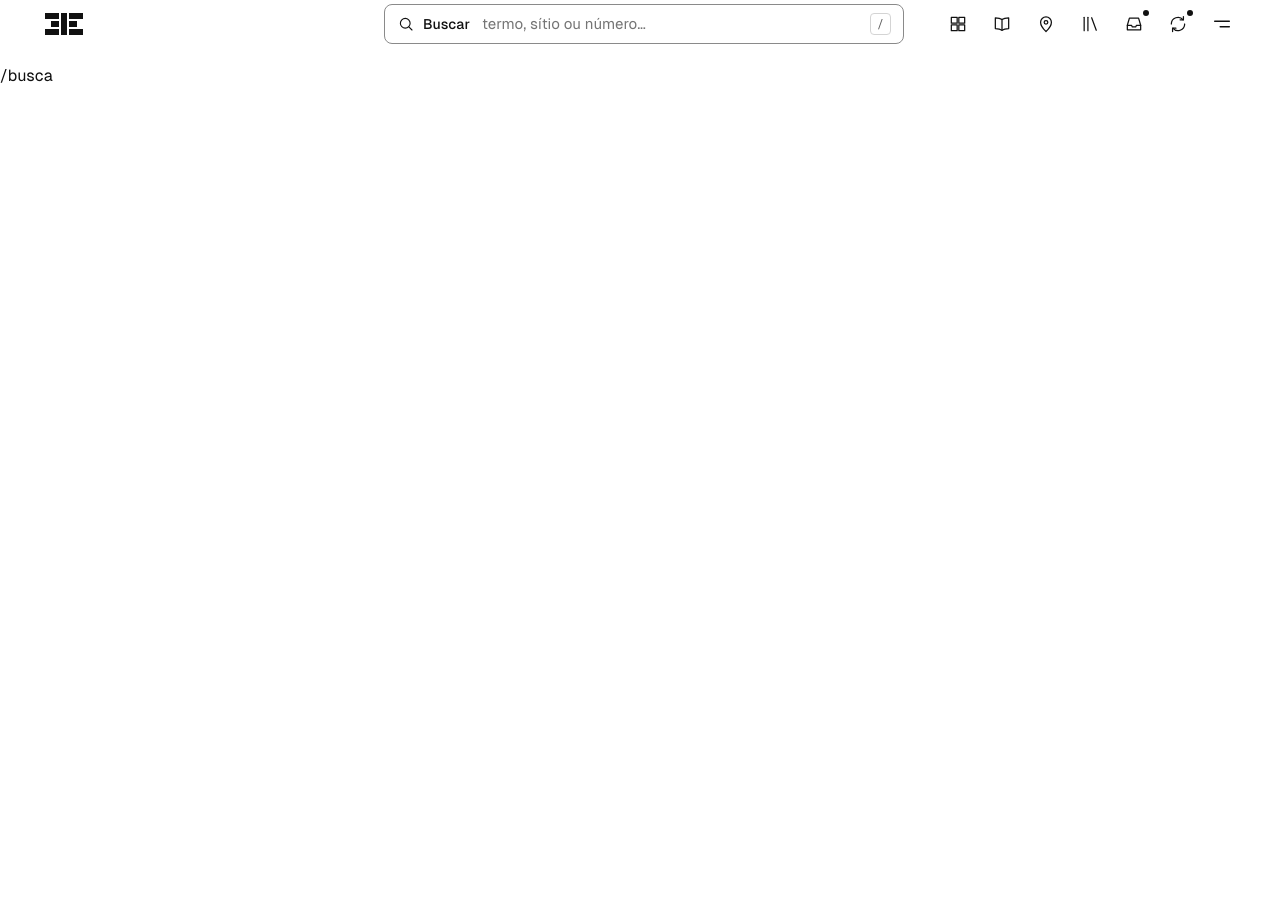
Scenario: BarraSuperior › o Menu abre o painel (aria-expanded), Esc fecha e o foco volta ao botão
Click the button named "Menu" at (1222, 24), box [1200,2,1244,46]
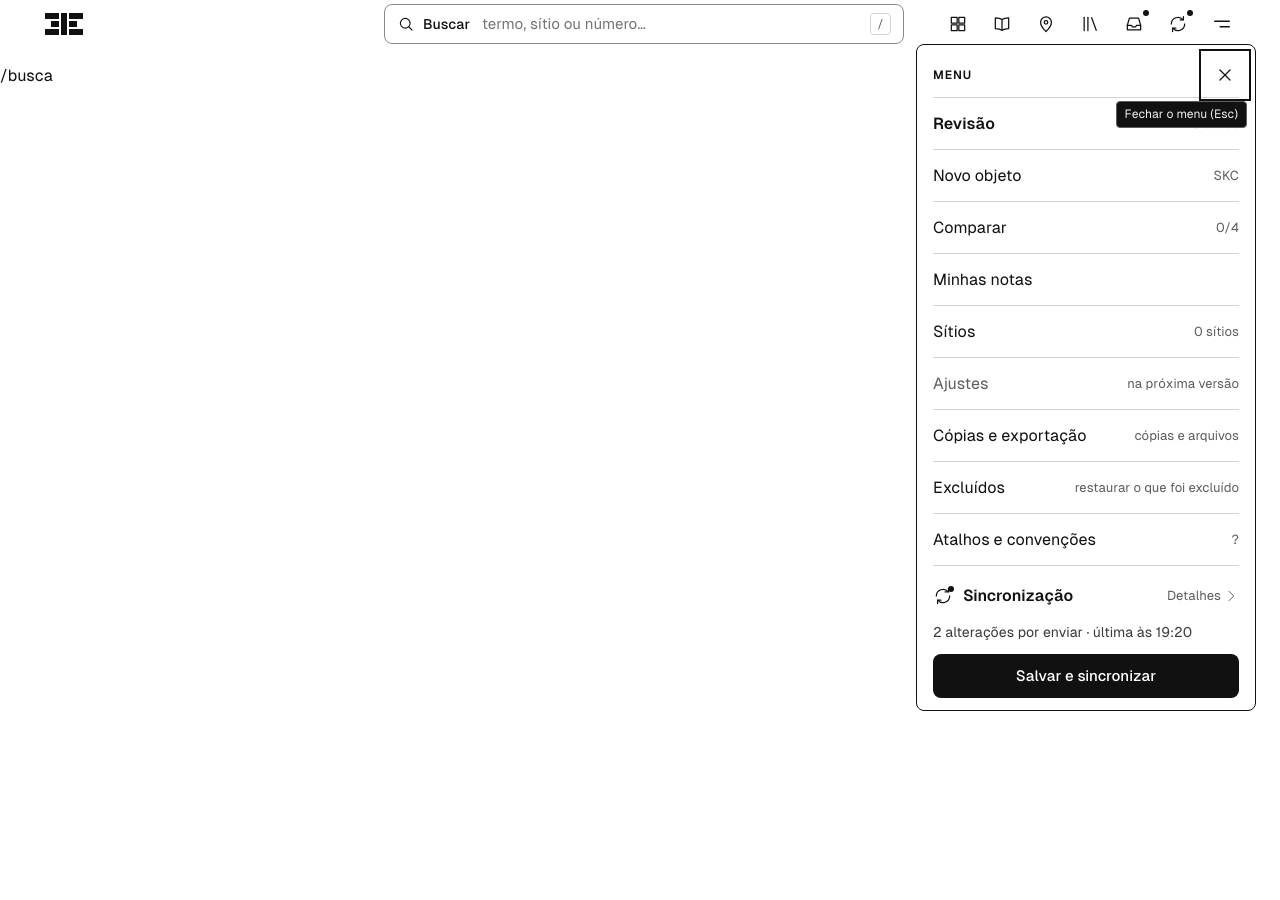
Now the dialog "Menu" is shown, box [916,44,1256,711]
Press Escape
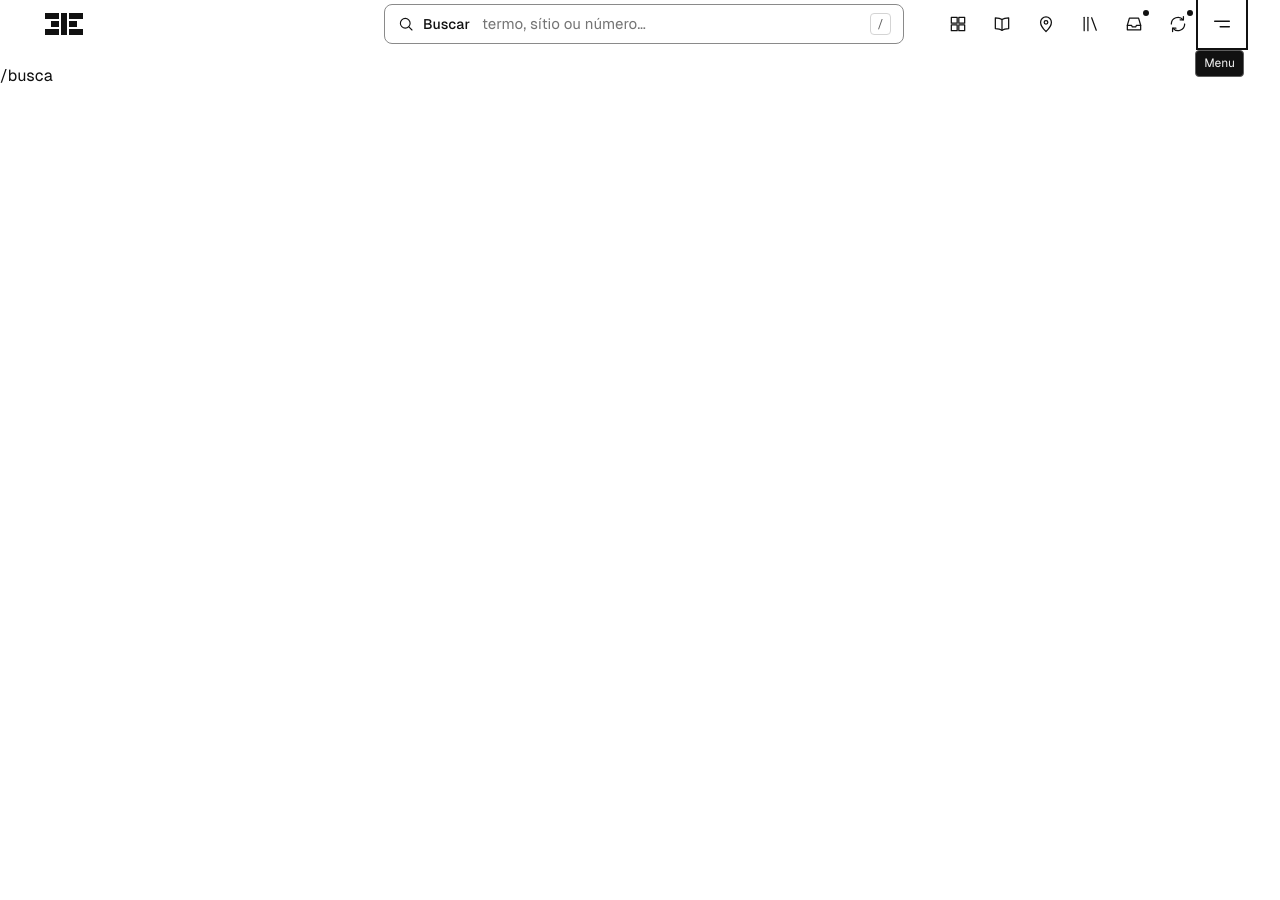
Now the text "Menu" is gone
